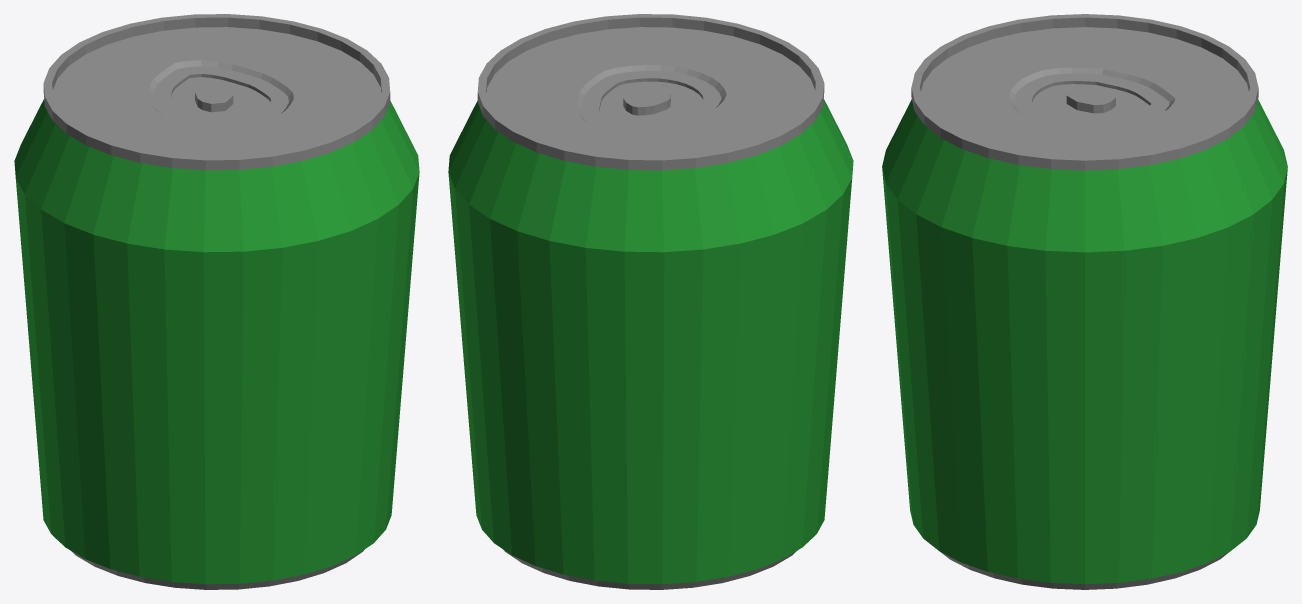
The model's file is Item_SweetDGreen.fbx.
The picture shows the model from 3 angles, left to right: view 1: azimuth 30°, elevation 25°; view 2: azimuth 150°, elevation 25°; view 3: azimuth 270°, elevation 25°; orthographic projection.
Parts seen in each view (by area): view 1: Cylinder; view 2: Cylinder; view 3: Cylinder.
Boxes of the visible parts, x1,y1,x2,y2 form: Cylinder: (14, 14, 419, 589); Cylinder: (448, 14, 853, 589); Cylinder: (882, 14, 1287, 589).
Bounding box in the file's own units: 193 × 227 × 193.
